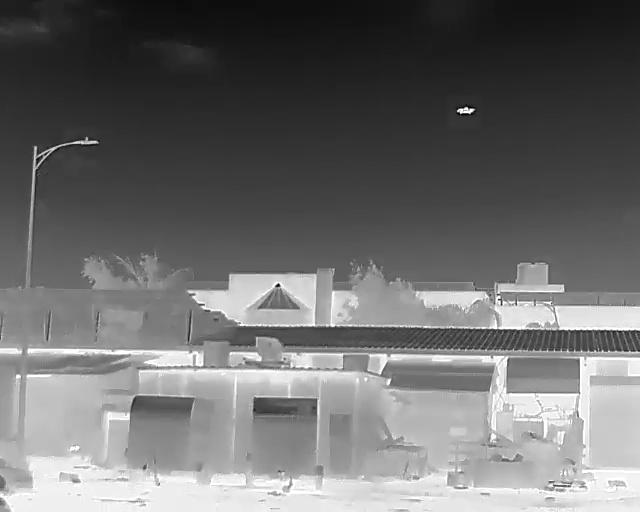fpv-drone: (457, 107, 474, 114)
